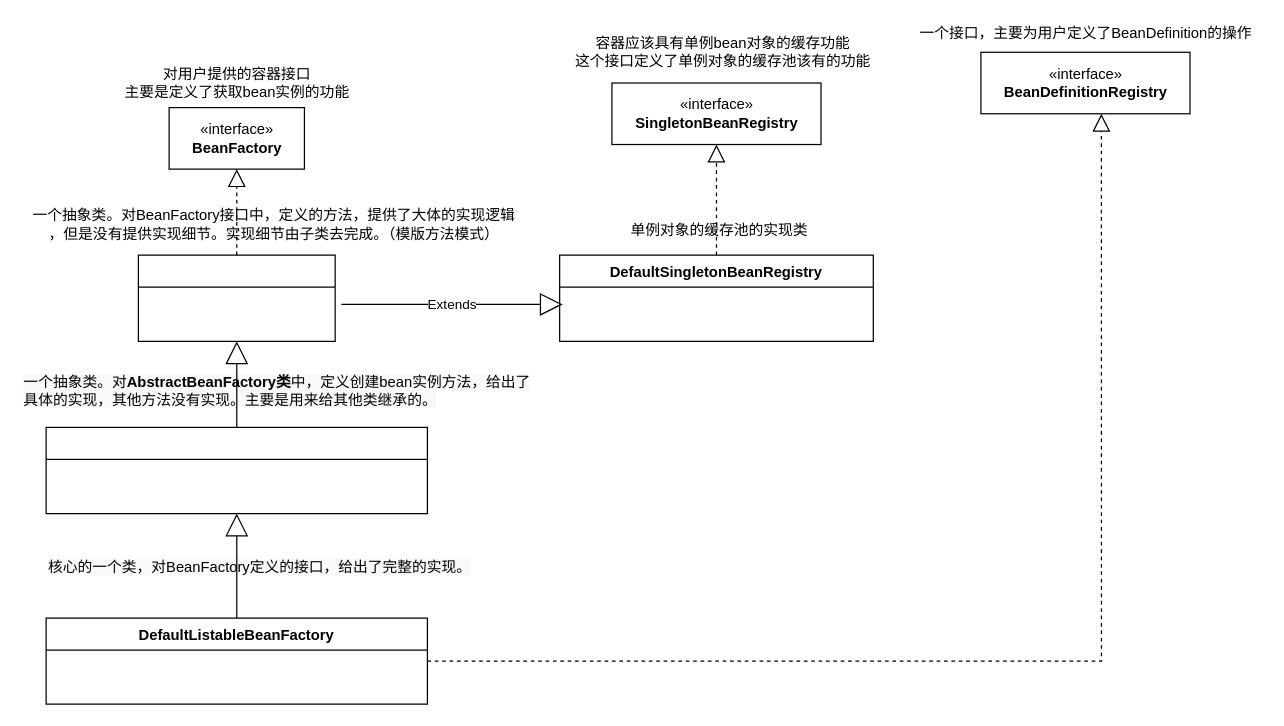
The diagram is 1284 pixels wide and 726 high, and some of its shapes have lost their labels. The centre of each missing label's shape, as x and y in pixels:
AbstractAutowireCapableBeanFactory: the point at 236,470
AbstractBeanFactory: the point at 236,297
